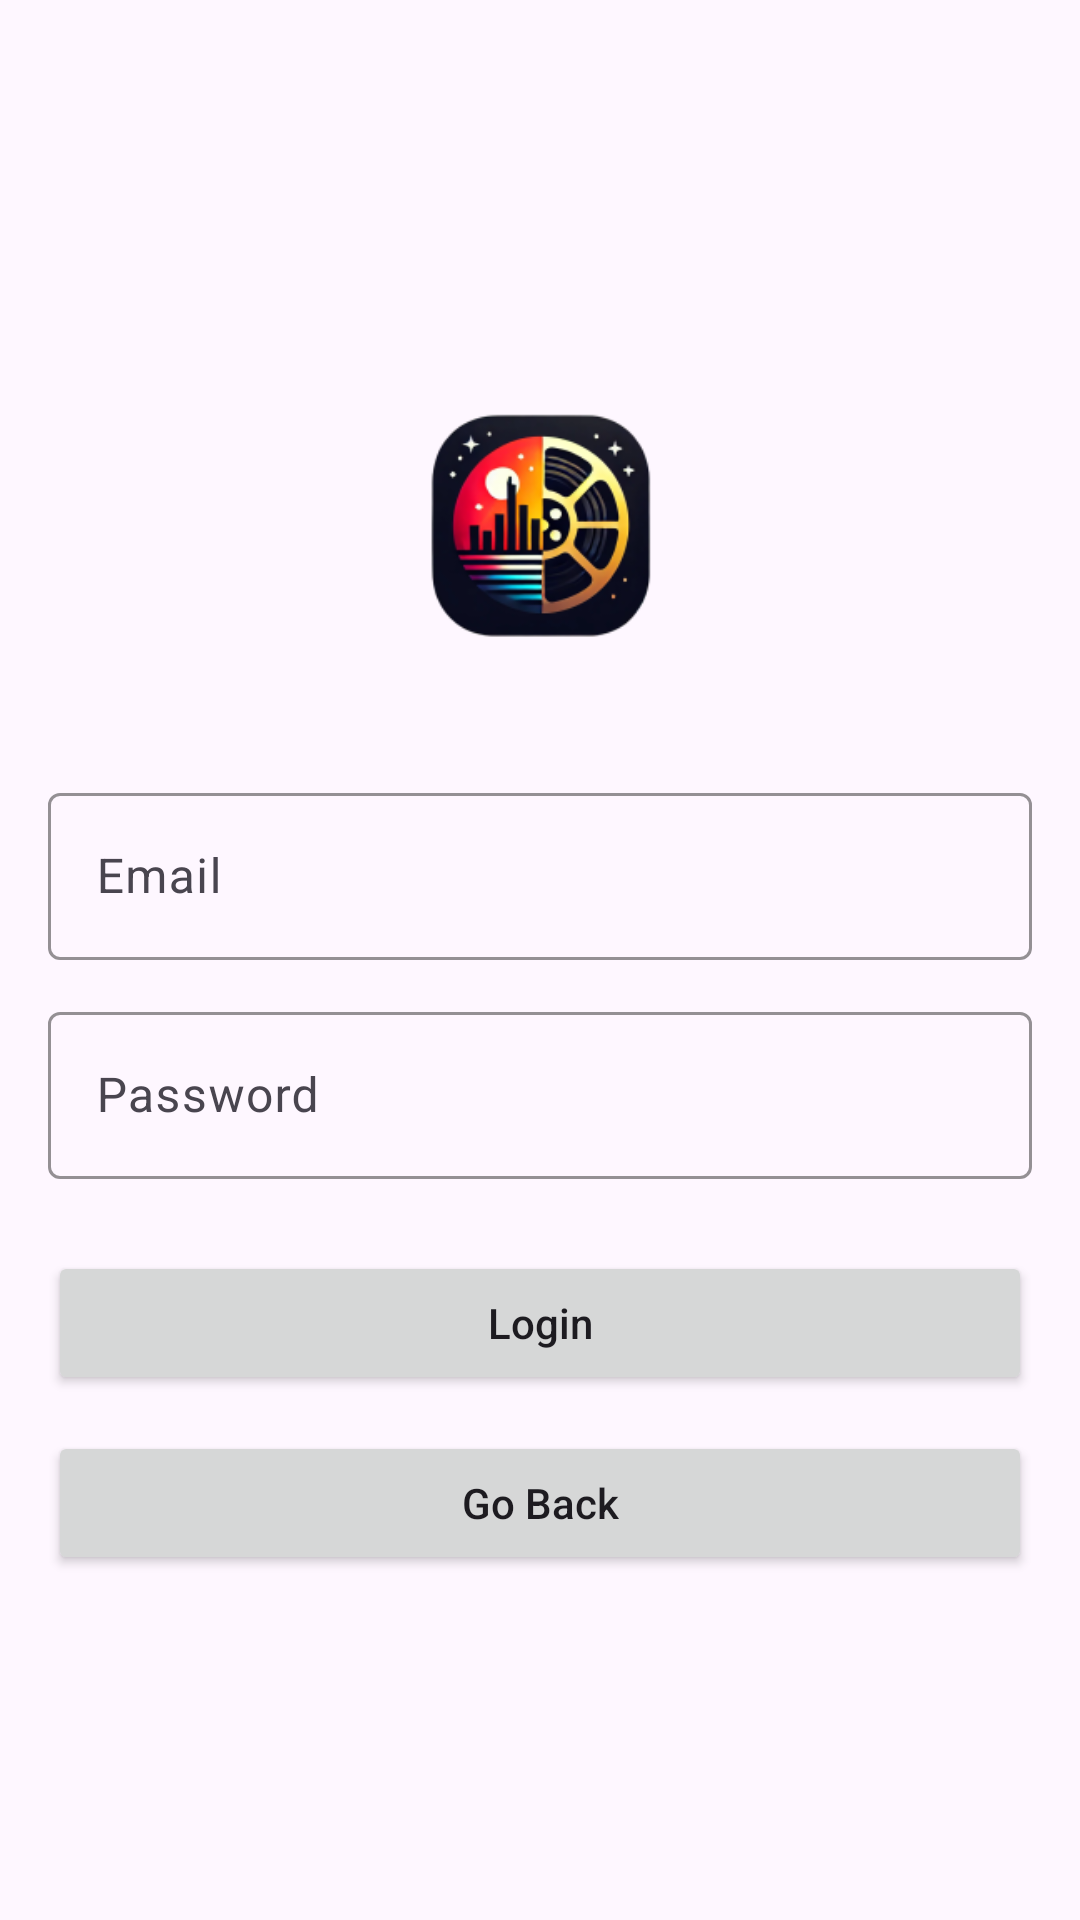

Point at icon controls on the screen. Image size 1080px x 1920px, points as (x=x, y=y).
app: (x=541, y=525)
